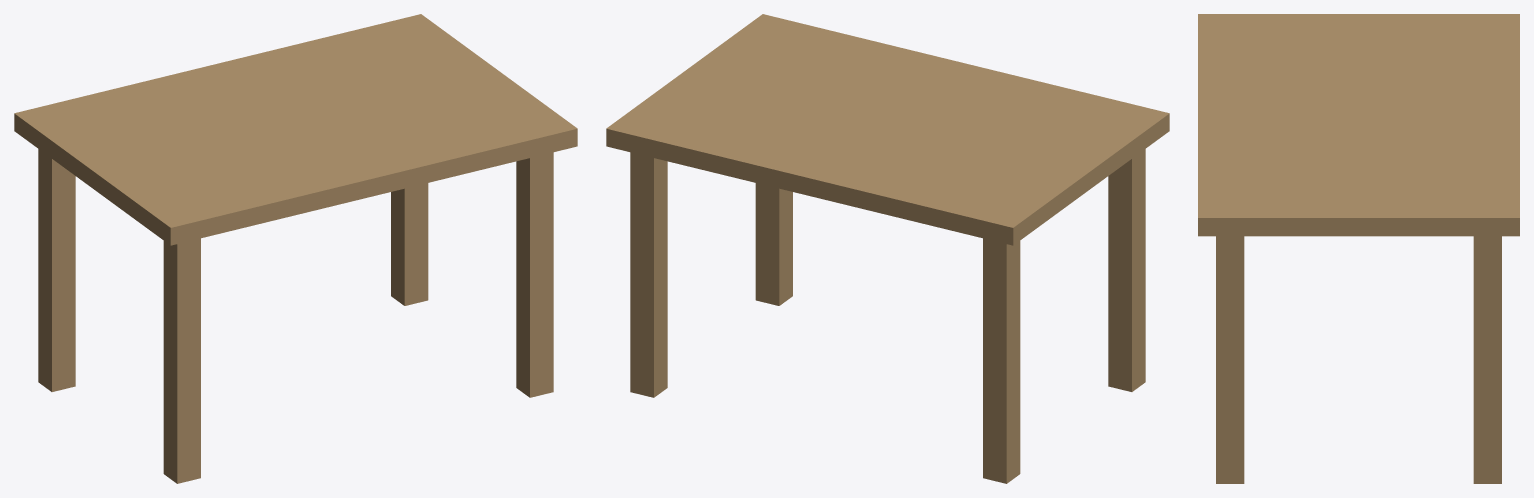
Rendered from table.glb.
3 views of the same model, side by side, from view 1: azimuth 30°, elevation 25°; view 2: azimuth 150°, elevation 25°; view 3: azimuth 270°, elevation 25° (orthographic). The views are drawn at different scales.
Parts seen in each view (by area): view 1: table_top, table_leg_0, table_leg_1, table_leg_3, table_leg_2; view 2: table_top, table_leg_3, table_leg_2, table_leg_0, table_leg_1; view 3: table_top, table_leg_1, table_leg_2.
Boxes of the visible parts, box(x1,y1,x2,y2) form: table_top: box(14, 14, 577, 245); table_leg_0: box(163, 238, 200, 483); table_leg_1: box(516, 152, 553, 397); table_leg_3: box(38, 149, 75, 391); table_leg_2: box(391, 183, 428, 305); table_top: box(606, 14, 1169, 245); table_leg_3: box(983, 238, 1020, 483); table_leg_2: box(630, 152, 667, 397); table_leg_0: box(1108, 149, 1145, 391); table_leg_1: box(755, 183, 792, 305); table_top: box(1198, 14, 1519, 236); table_leg_1: box(1216, 236, 1244, 483); table_leg_2: box(1473, 236, 1501, 483).
Size of the model in its own units: 1.2 by 0.75 by 0.8.
